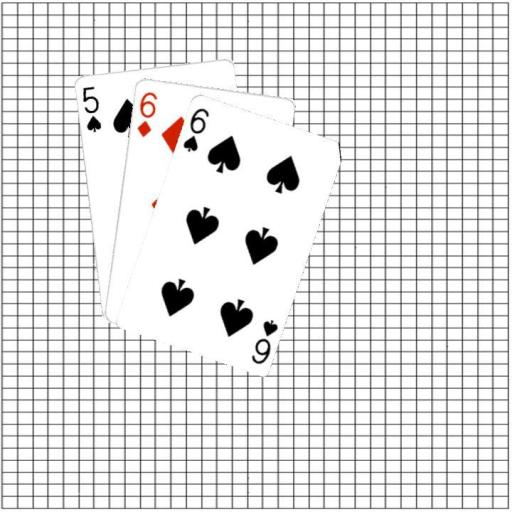5S: (79, 82, 102, 133)
6D: (134, 88, 159, 138)
6S: (179, 104, 211, 153), (248, 317, 280, 366)
